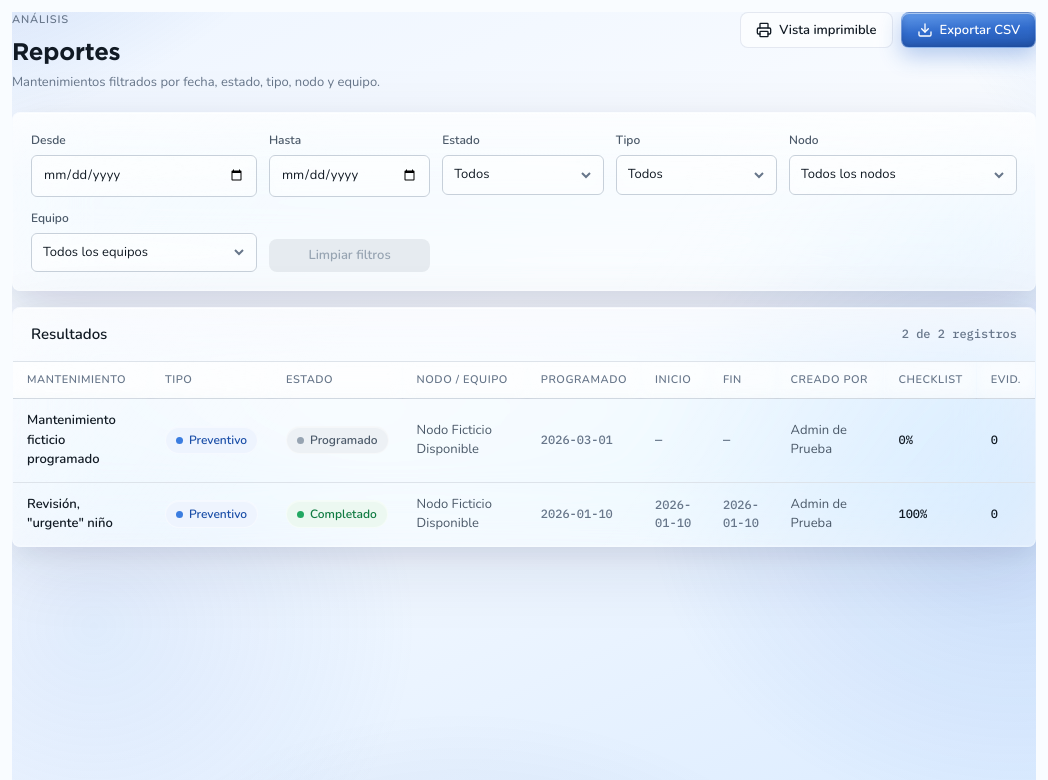
Test case: Reports › con cero resultados filtrados, "Exportar CSV" queda deshabilitado
Expected: the text "Mantenimiento ficticio programado" is shown, [13,398,151,482]
Select "En progreso" in the dropdown labelled "Estado" at [523, 175], box [442,155,604,194]
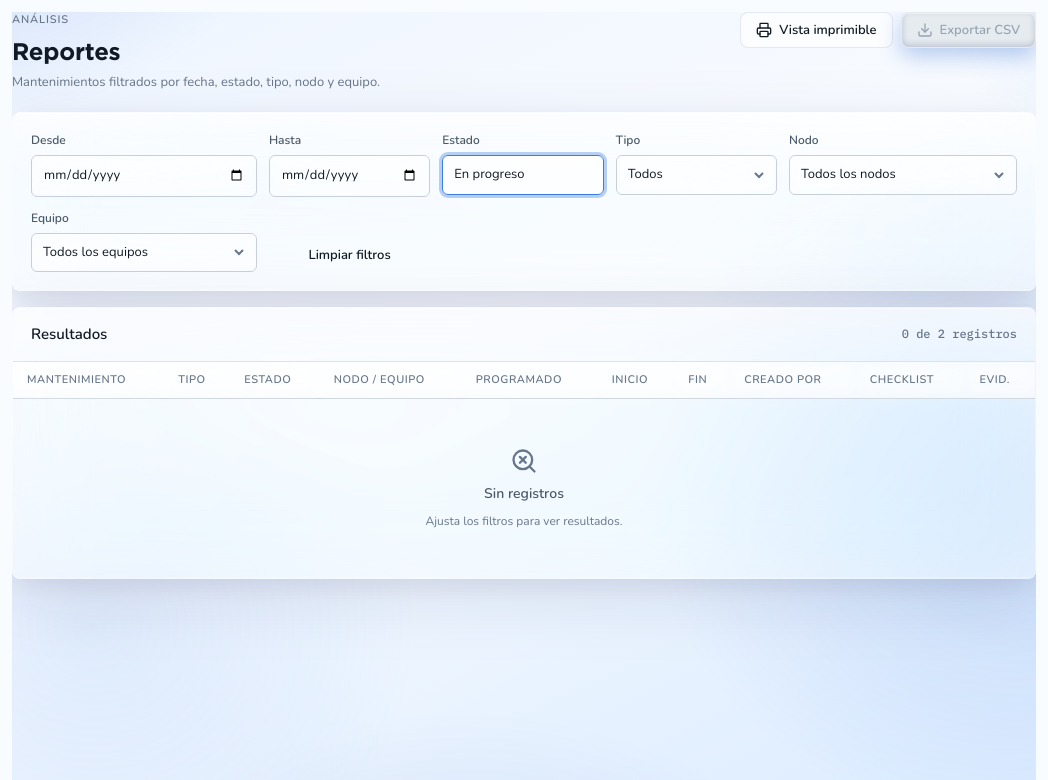
Result: the text "0 de 2 registros" is shown at [902,325,1017,343]
Result: the button "Exportar CSV" is disabled at [900,12,1036,48]
